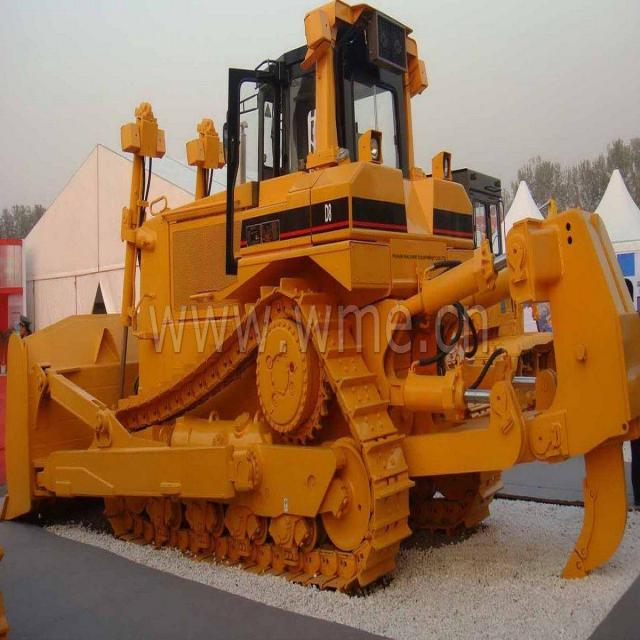Bulldozer: (7, 22, 639, 614)
